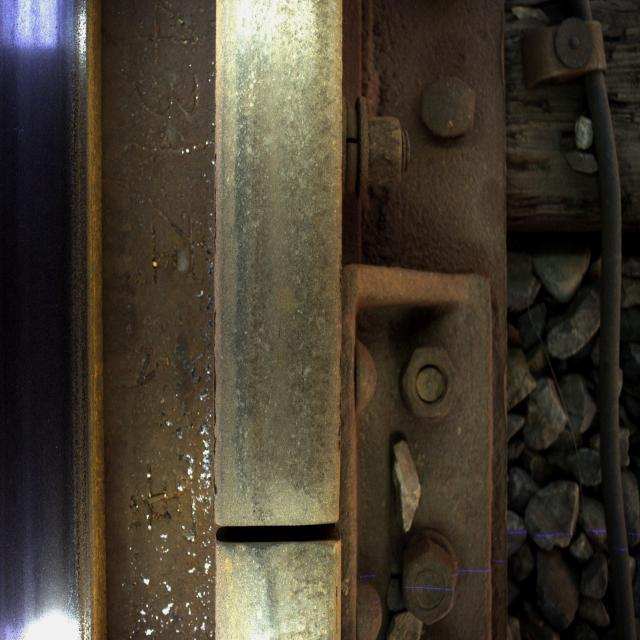spalling: (204, 490, 356, 575)
